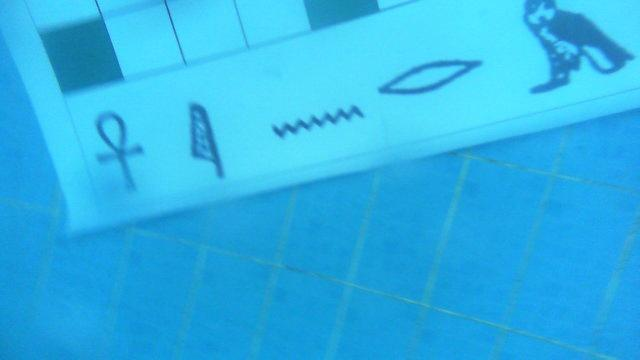Ankh: (77, 111, 148, 209)
Mouth: (378, 49, 489, 102)
Owl: (516, 2, 637, 102)
Reed: (174, 99, 233, 188)
Water: (270, 97, 365, 147)
